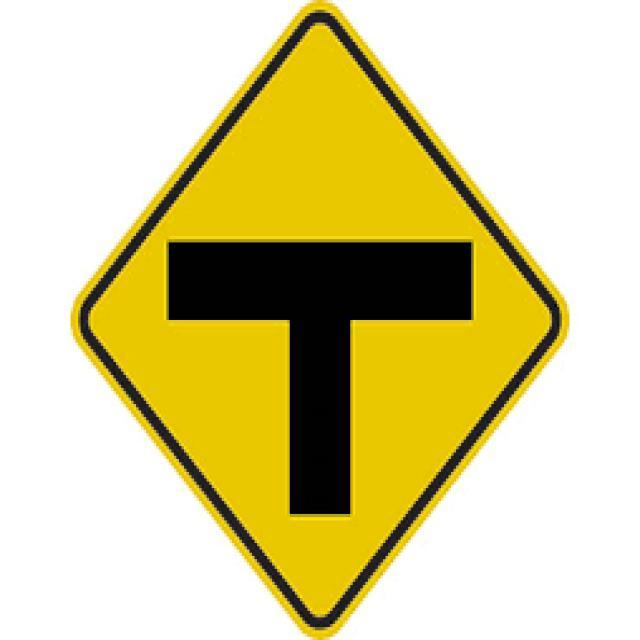t intersection: (88, 23, 548, 620)
